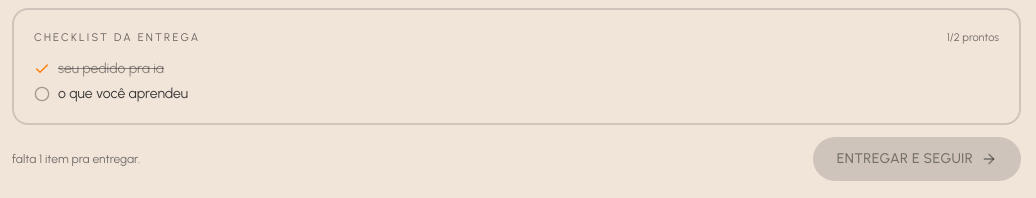
Test: EntregaChecklist › nomeia o campo faltante ao tentar entregar incompleto e não entrega
This screenshot has width=1036, height=198.
Click the button "entregar e seguir". click: (917, 159)
box: [813,137,1021,181]
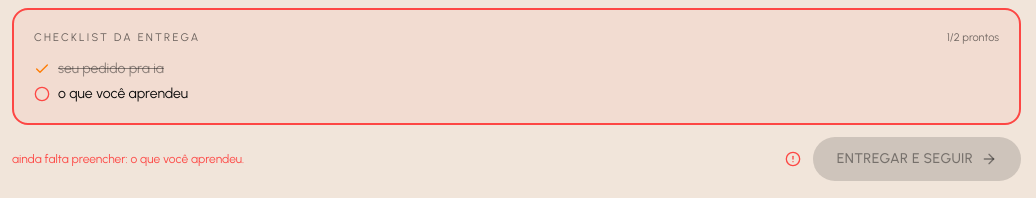
Check: the text "ainda falta preencher: o que você aprendeu." is shown, box [12,151,244,167]
